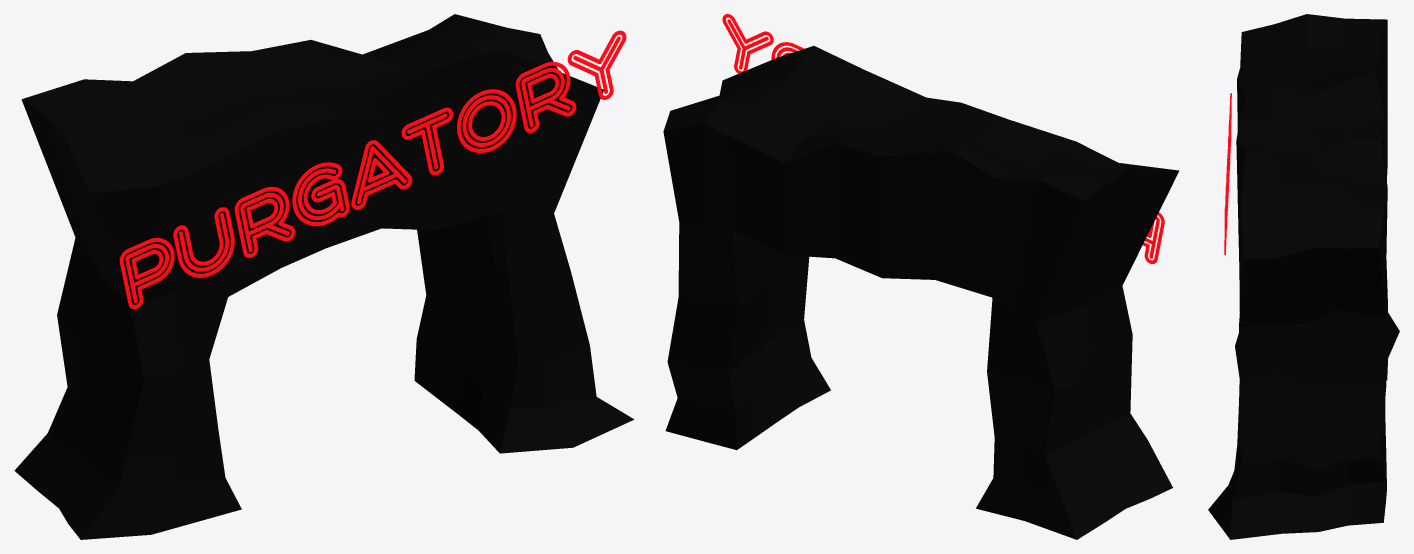
File: Entrance.fbx
3 views of the same model, side by side, from view 1: azimuth 30°, elevation 25°; view 2: azimuth 150°, elevation 25°; view 3: azimuth 270°, elevation 25° (orthographic). The views are drawn at different scales.
Visible parts, largest first — view 1: Entrance, Text; view 2: Entrance, Text; view 3: Entrance, Text.
Boxes of the visible parts, box(x1,y1,x2,y2) form: Entrance: box(14, 14, 634, 539); Text: box(119, 30, 626, 309); Entrance: box(663, 46, 1178, 539); Text: box(722, 14, 1164, 263); Entrance: box(1208, 14, 1399, 539); Text: box(1224, 93, 1231, 254).
Size of the model in its own units: 673 by 472 by 251.
